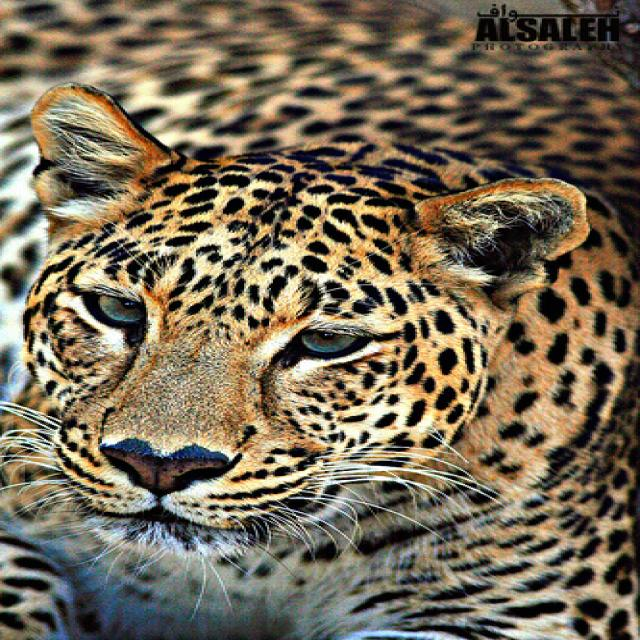Leopard: (0, 1, 634, 636)
